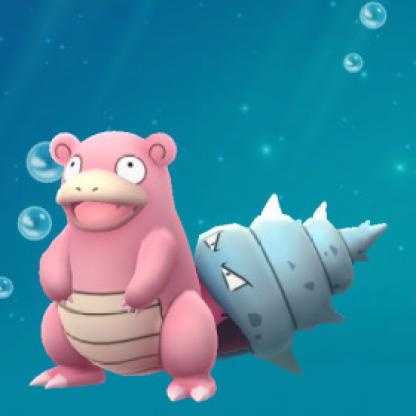Slowbro: (12, 113, 407, 405)
